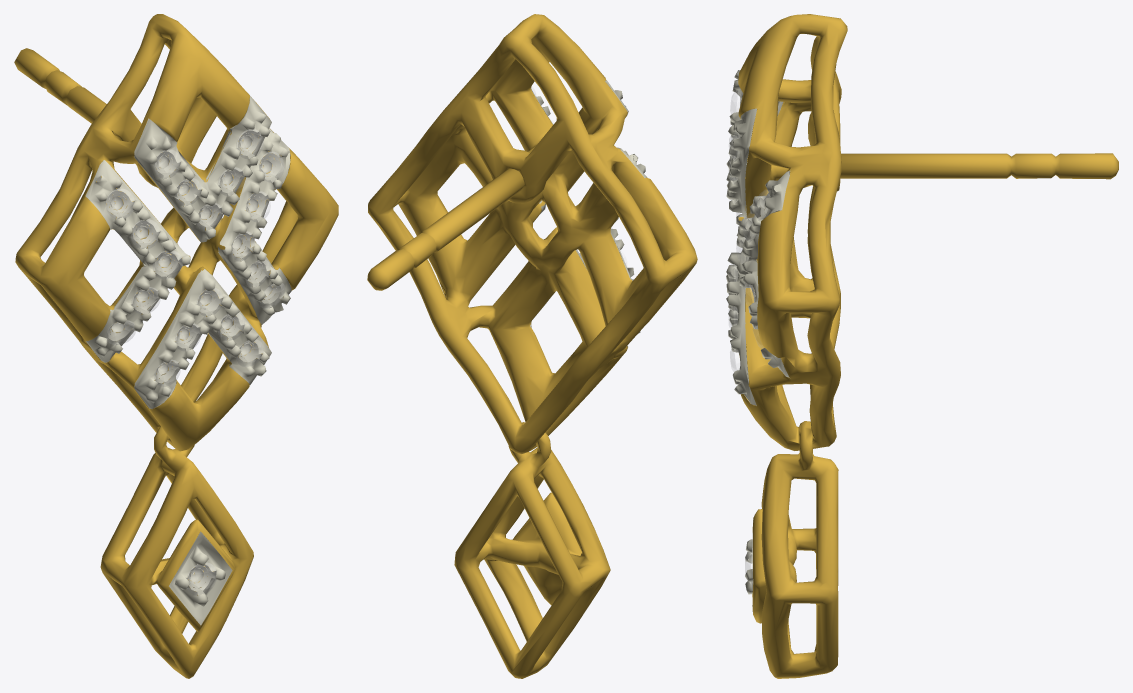
File: earring.gltf
3 views of the same model, side by side, from view 1: azimuth 30°, elevation 25°; view 2: azimuth 150°, elevation 25°; view 3: azimuth 270°, elevation 25° (orthographic). The views are drawn at different scales.
Visible parts, largest first — view 1: 22DSANEST013SJ.002, 22DSANEST013SJ.001, 22DSANEST013SJ.003; view 2: 22DSANEST013SJ.002, 22DSANEST013SJ.001; view 3: 22DSANEST013SJ.002, 22DSANEST013SJ.001, 22DSANEST013SJ.003.
Boxes of the visible parts, bbox=[...] form: 22DSANEST013SJ.002: bbox=[14, 14, 338, 678]; 22DSANEST013SJ.001: bbox=[85, 94, 291, 625]; 22DSANEST013SJ.003: bbox=[106, 129, 284, 595]; 22DSANEST013SJ.002: bbox=[367, 14, 697, 678]; 22DSANEST013SJ.001: bbox=[468, 80, 647, 348]; 22DSANEST013SJ.002: bbox=[738, 14, 1118, 678]; 22DSANEST013SJ.001: bbox=[726, 70, 790, 611]; 22DSANEST013SJ.003: bbox=[728, 90, 769, 584].
Size of the model in its own units: 1.63 by 3.36 by 1.8.
